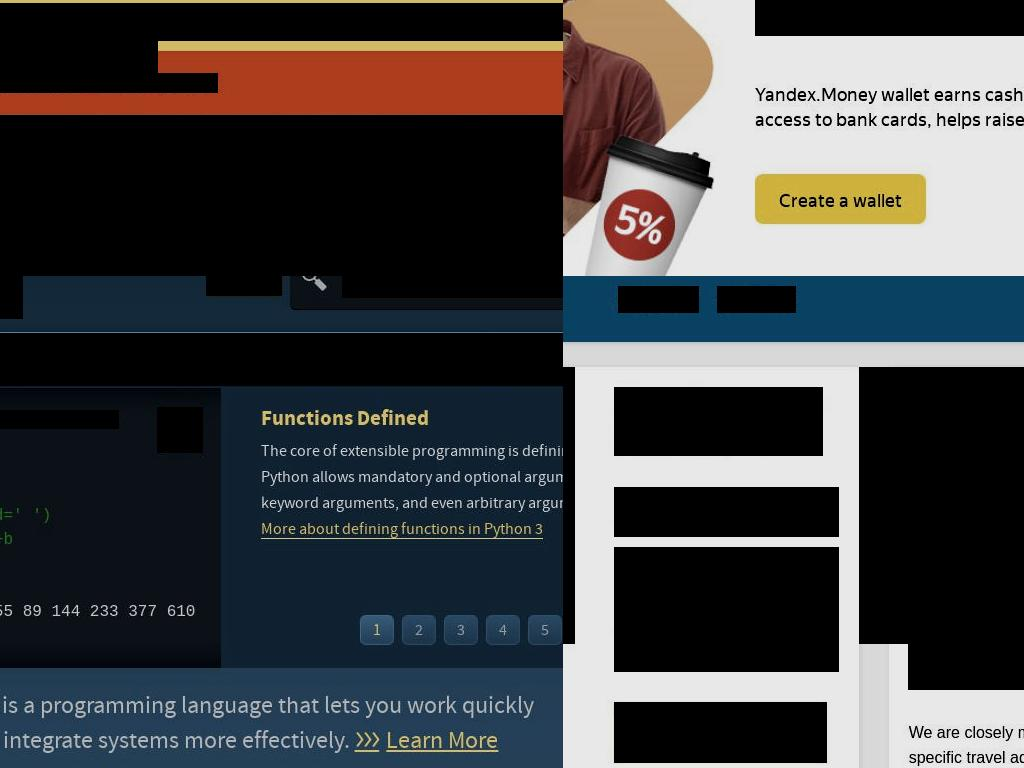button: (0, 115, 563, 276), (888, 367, 1024, 601), (614, 702, 827, 763), (319, 333, 486, 386), (17, 333, 183, 386), (755, 174, 926, 224), (183, 333, 319, 386), (261, 520, 543, 540), (107, 3, 216, 41), (486, 333, 563, 386), (0, 3, 107, 41), (384, 3, 487, 41), (216, 3, 318, 41), (56, 41, 158, 79), (318, 3, 384, 41), (487, 3, 545, 41), (0, 41, 56, 79), (157, 407, 203, 453), (206, 276, 282, 296), (360, 614, 394, 645), (402, 614, 436, 645), (444, 614, 478, 645), (486, 614, 520, 645), (528, 614, 562, 645), (545, 3, 563, 41)
field: (342, 276, 563, 298)
heading: (0, 195, 563, 276), (755, 0, 1024, 36), (261, 407, 563, 429)
image: (0, 115, 563, 276), (563, 0, 755, 276), (859, 367, 1024, 644), (888, 367, 1024, 601), (618, 286, 699, 313), (717, 286, 796, 313)
link: (614, 387, 823, 456), (908, 620, 1024, 690), (354, 726, 498, 754)
text: (614, 547, 839, 672), (0, 434, 118, 621), (261, 442, 563, 513), (0, 691, 534, 719), (755, 79, 1024, 131), (614, 487, 839, 537), (0, 726, 355, 754), (0, 602, 205, 645), (5, 73, 218, 93), (779, 185, 902, 212), (0, 410, 119, 429), (173, 420, 188, 443)
